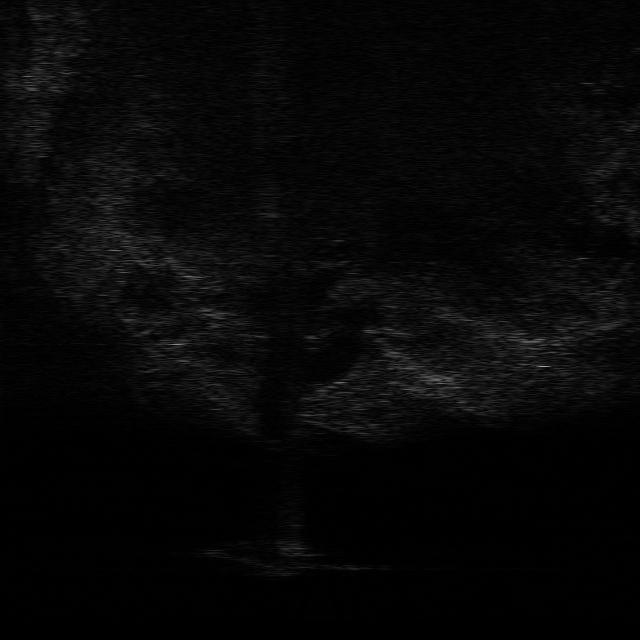plane: (202, 539, 374, 578)
